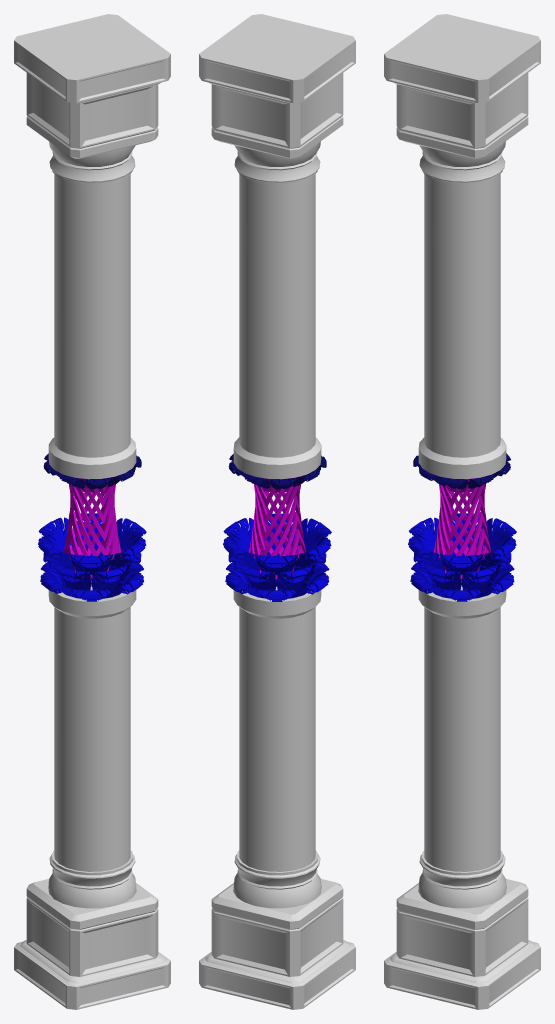
The model's file is Catacomb Column.fbx.
The picture shows the model from 3 angles, left to right: view 1: azimuth 30°, elevation 25°; view 2: azimuth 150°, elevation 25°; view 3: azimuth 330°, elevation 25°; orthographic projection.
Parts seen in each view (by area): view 1: Cube; view 2: Cube; view 3: Cube.
Part boxes in pixels (bbox=[...]): Cube: bbox=[14, 14, 170, 1009]; Cube: bbox=[199, 14, 355, 1009]; Cube: bbox=[384, 14, 540, 1009].
Bounding box in the file's own units: 794 × 6787 × 794.
